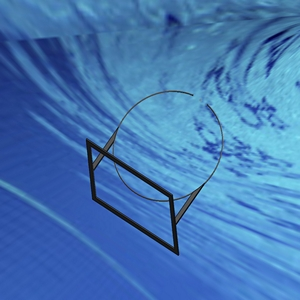circle: (84, 88, 226, 256)
